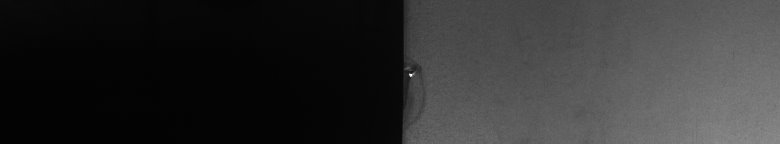hb: (412, 56, 430, 124)
